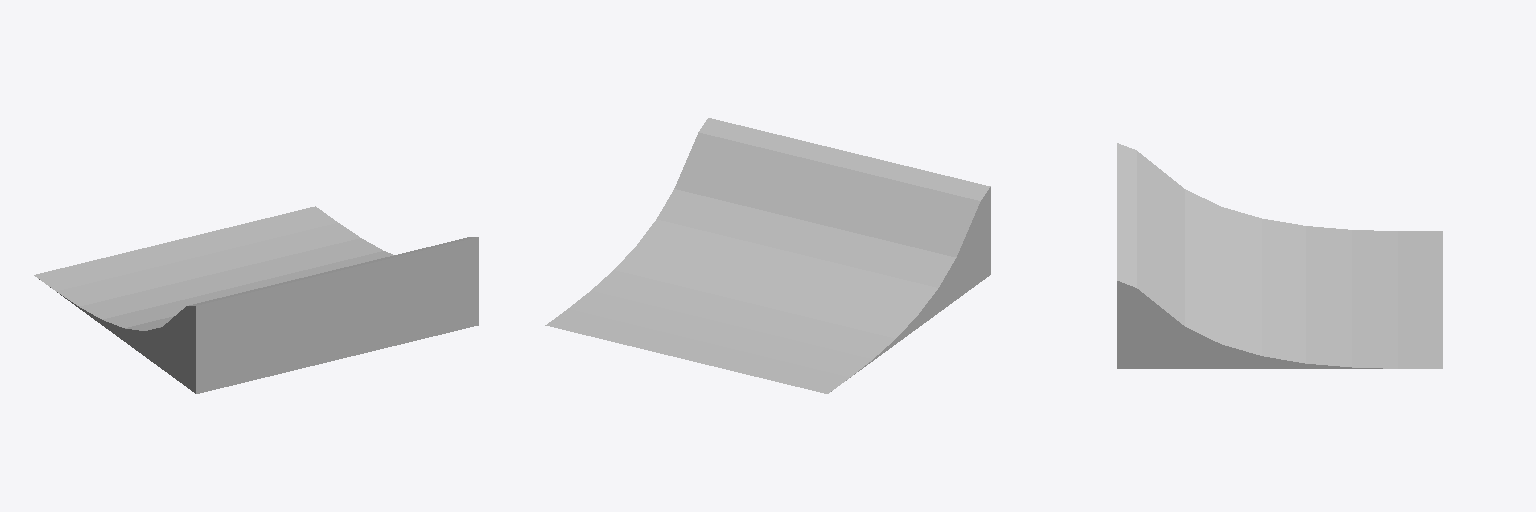
File: Quater_SML_Trans_Full.obj
3 views of the same model, side by side, from view 1: azimuth 30°, elevation 25°; view 2: azimuth 150°, elevation 25°; view 3: azimuth 270°, elevation 25° (orthographic).
Parts seen in each view (by area): view 1: Quater_SML_Trans_Full; view 2: Quater_SML_Trans_Full; view 3: Quater_SML_Trans_Full.
Boxes of the visible parts, <box> form: Quater_SML_Trans_Full: <box>34,206,478,393</box>; Quater_SML_Trans_Full: <box>545,118,990,393</box>; Quater_SML_Trans_Full: <box>1117,143,1442,368</box>.
Size of the model in its own units: 10 by 3 by 10.